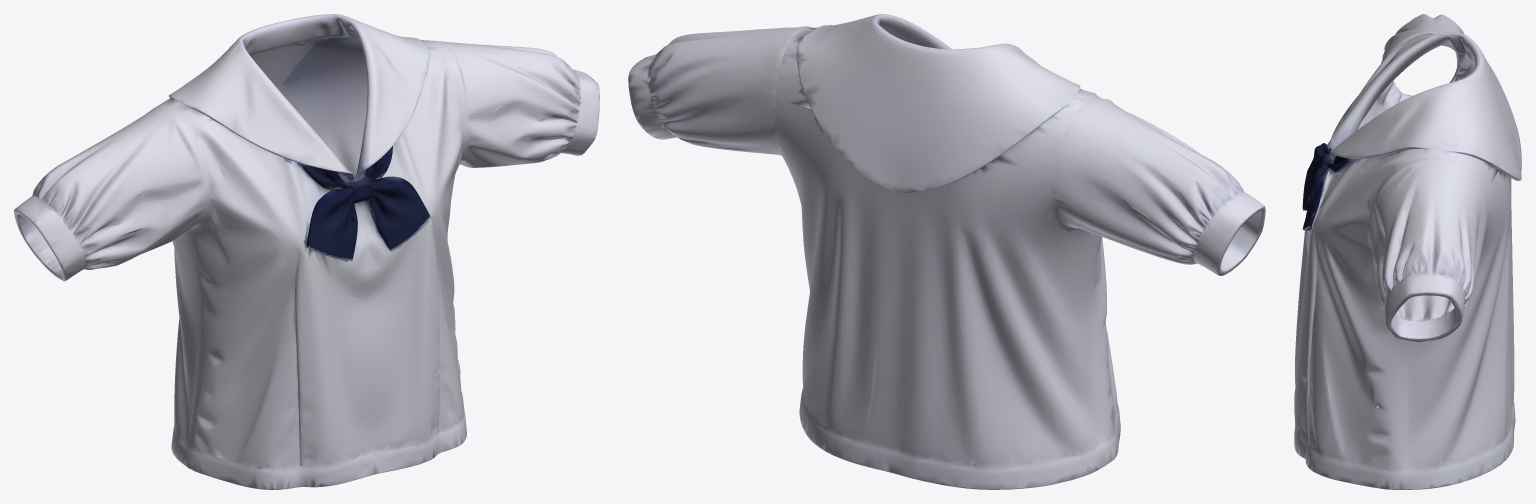
Rendered from school_blouse_v2_50k_full.obj.
3 renders of one model, left to right at view 1: azimuth 30°, elevation 25°; view 2: azimuth 150°, elevation 25°; view 3: azimuth 270°, elevation 25°, orthographic. The views are drawn at different scales.
Parts seen in each view (by area): view 1: node_0; view 2: node_0; view 3: node_0.
Part boxes in pixels (x1,y1,x2,y2): node_0: (14, 14, 599, 489); node_0: (628, 14, 1265, 489); node_0: (1294, 14, 1521, 489).
Size of the model in its own units: 115 by 74.73 by 41.45.
Materials: 1 (1 with a texture image).
